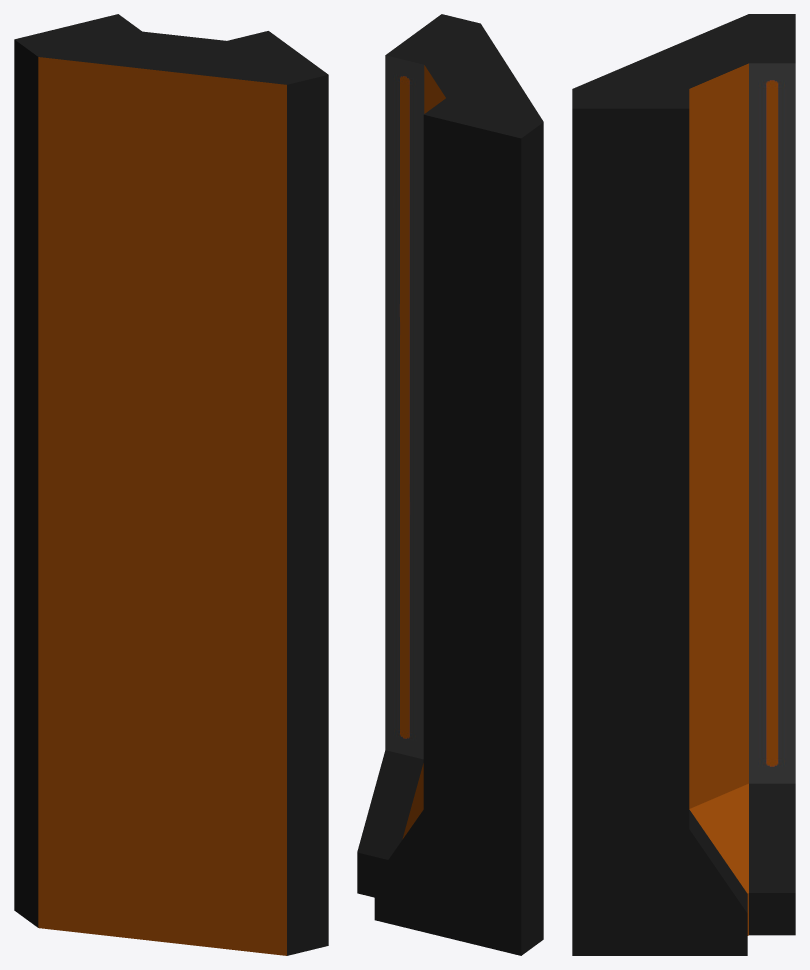
File: wall_corner2.fbx
3 views of the same model, side by side, from view 1: azimuth 30°, elevation 25°; view 2: azimuth 150°, elevation 25°; view 3: azimuth 270°, elevation 25° (orthographic). The views are drawn at different scales.
Visible parts, largest first — view 1: Cube.002; view 2: Cube.002; view 3: Cube.002.
Boxes of the visible parts, left/top/right/bottom form: Cube.002: left=14, top=14, right=328, bottom=955; Cube.002: left=357, top=14, right=543, bottom=955; Cube.002: left=572, top=14, right=795, bottom=955.
Bounding box in the file's own units: 192 × 800 × 191.
Materials: 3 (1 with a texture image).
